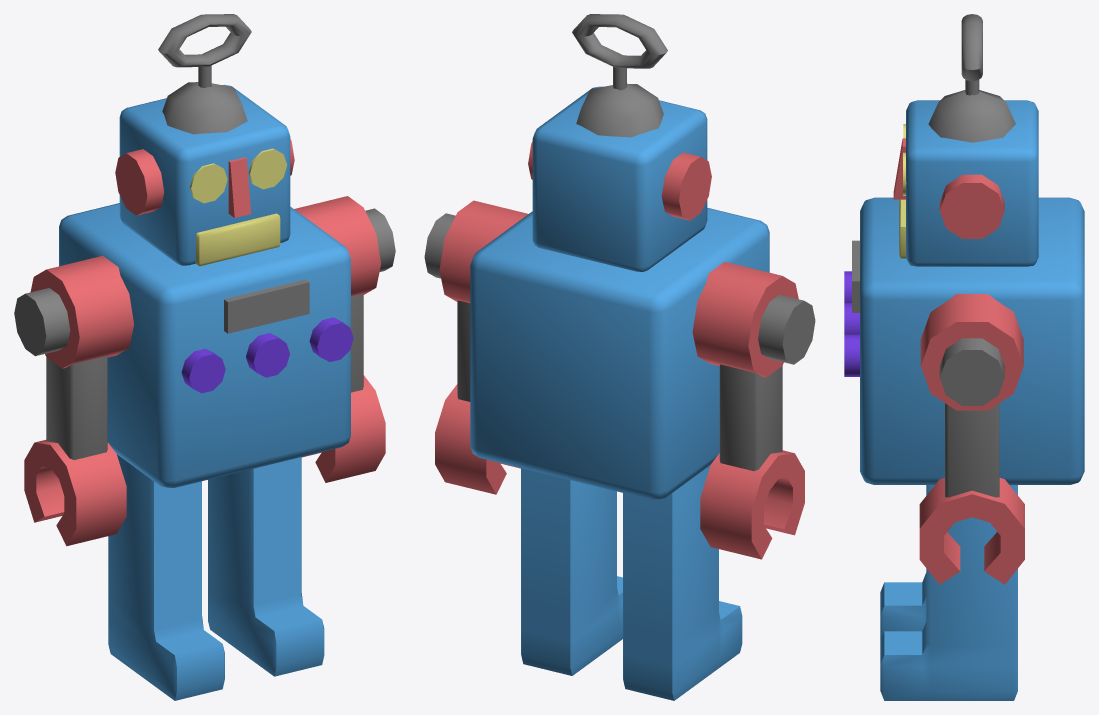
The model's file is props_toy_robot.fbx.
The picture shows the model from 3 angles, left to right: view 1: azimuth 30°, elevation 25°; view 2: azimuth 150°, elevation 25°; view 3: azimuth 270°, elevation 25°; orthographic projection. The views are drawn at different scales.
Visible parts, largest first — view 1: Cube.015; view 2: Cube.015; view 3: Cube.015.
Part boxes in pixels (x1,y1,x2,y2): Cube.015: (14, 14, 395, 700); Cube.015: (424, 14, 815, 700); Cube.015: (844, 14, 1084, 700).
Bounding box in the file's own units: 70.48 × 122 × 41.52.
